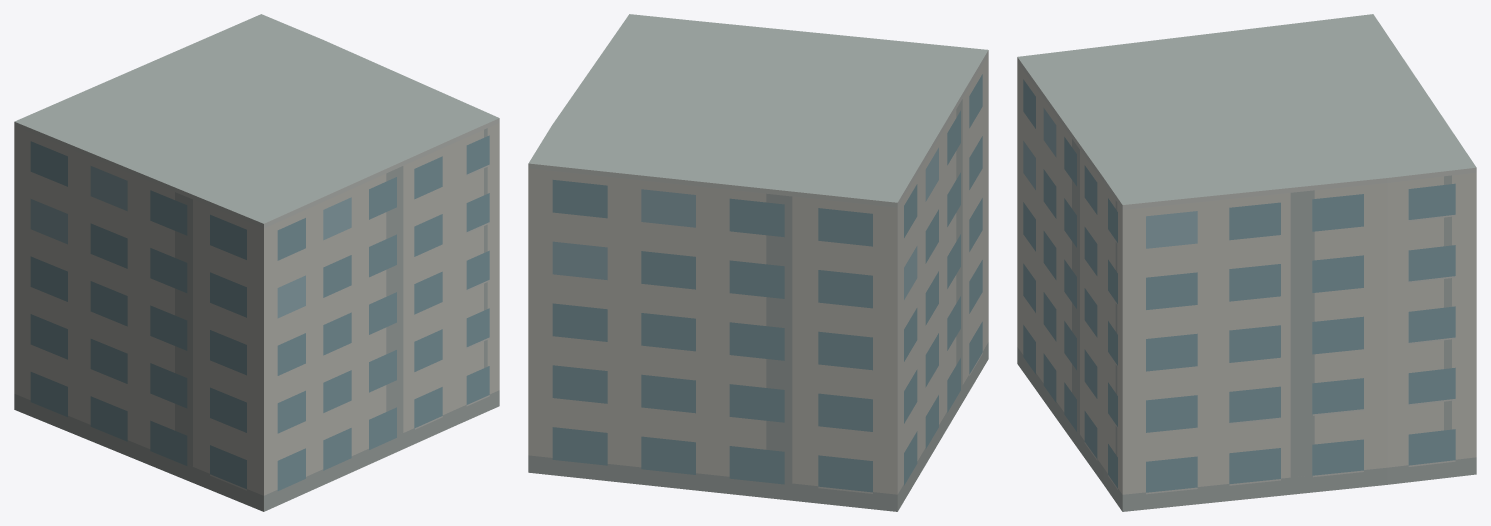
Rendered from survey-upis-32645754.glb.
3 views of the same model, side by side, from view 1: azimuth 30°, elevation 25°; view 2: azimuth 150°, elevation 25°; view 3: azimuth 270°, elevation 25° (orthographic). The views are drawn at different scales.
Visible parts, largest first — view 1: survey-upis-32645754.tmp; view 2: survey-upis-32645754.tmp; view 3: survey-upis-32645754.tmp.
Part boxes in pixels (x1=…): survey-upis-32645754.tmp: x1=14, y1=14, x2=499, y2=511; survey-upis-32645754.tmp: x1=528, y1=14, x2=988, y2=511; survey-upis-32645754.tmp: x1=1017, y1=14, x2=1476, y2=511.
Bounding box in the file's own units: 20.38 × 15.25 × 20.71.
